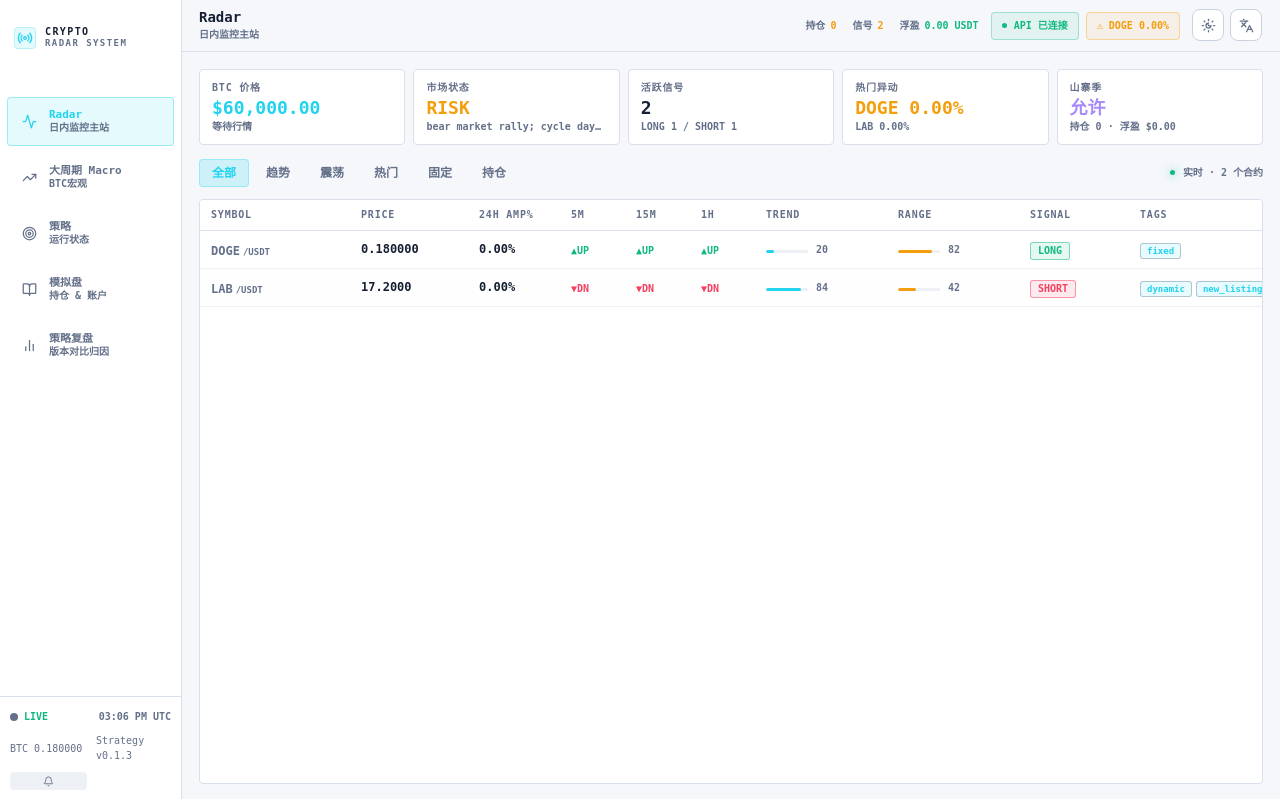
App › submits a paper long order for the selected symbol
Click the button with aria-label "交易": (90, 290) [7, 265, 174, 314]
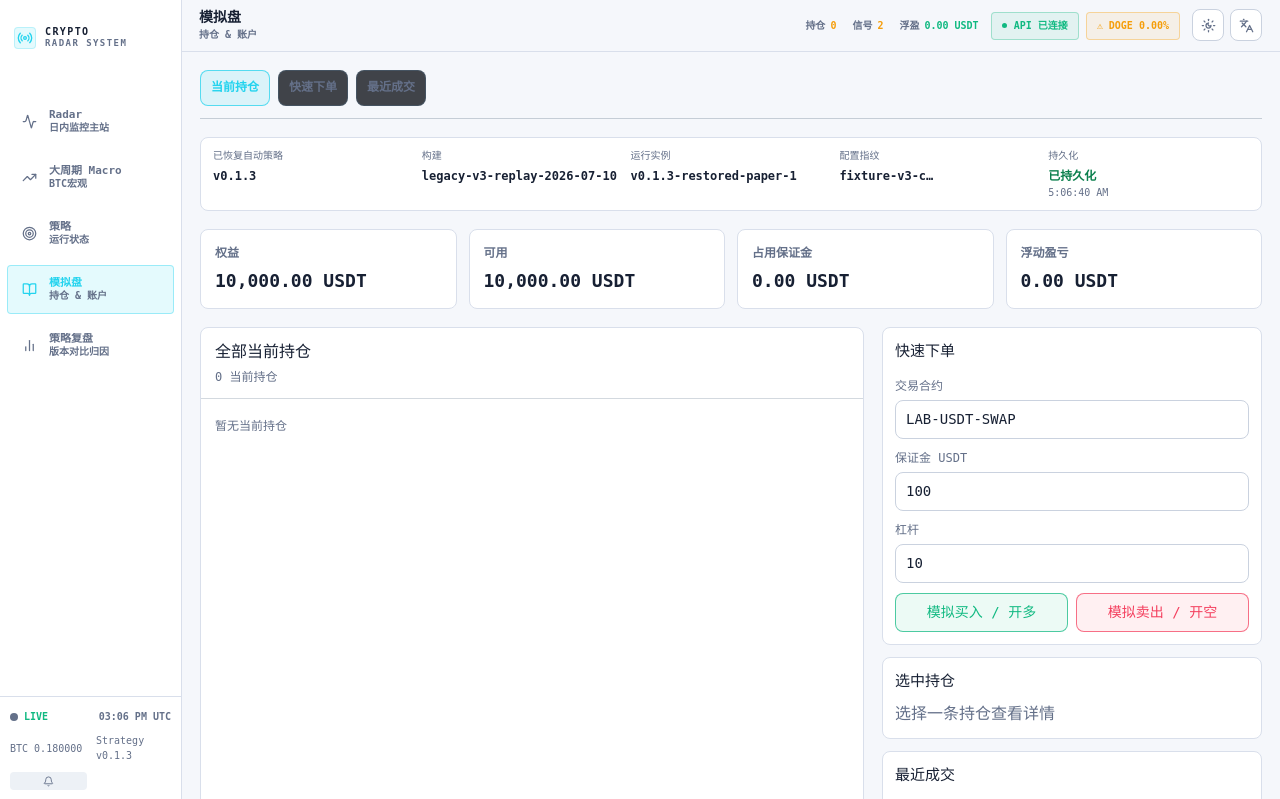
Click the button "模拟买入 / 开多": (982, 612) [895, 592, 1068, 632]
(page scrolled)
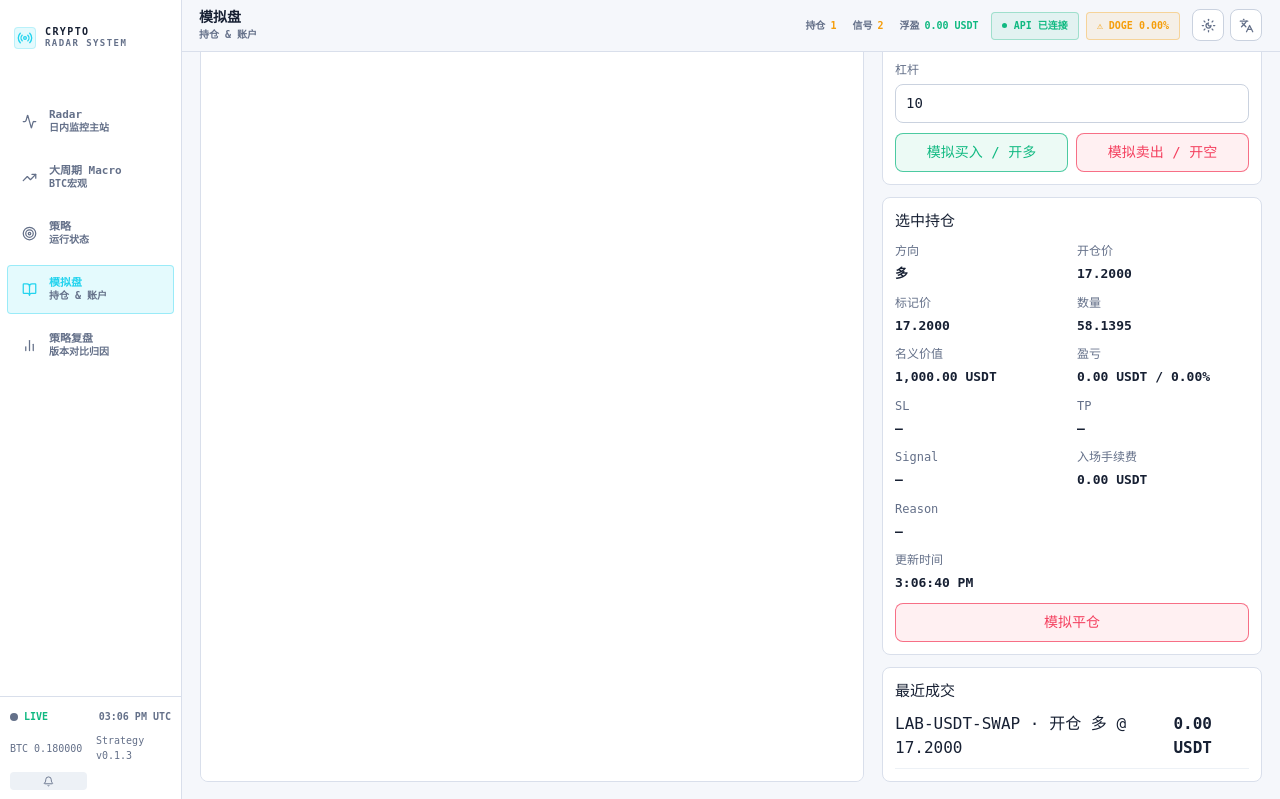
expect the button "模拟平仓" is shown: met, box [895, 602, 1249, 642]
